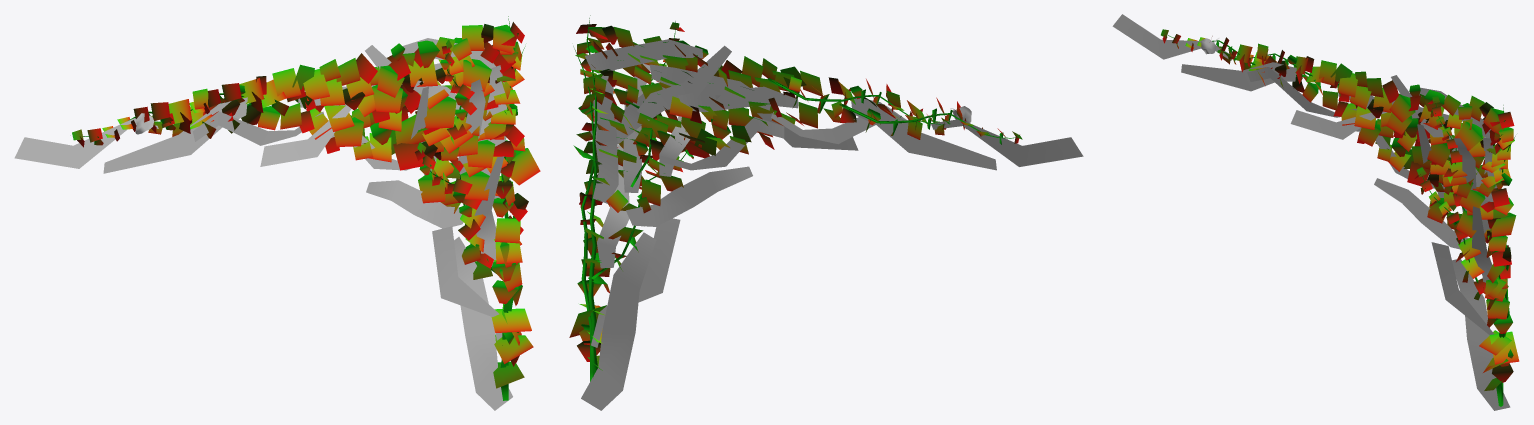
The model's file is Var1_LOD3.fbx.
The picture shows the model from 3 angles, left to right: view 1: azimuth 30°, elevation 25°; view 2: azimuth 150°, elevation 25°; view 3: azimuth 330°, elevation 25°; orthographic projection. The views are drawn at different scales.
Visible parts, largest first — view 1: _669d_Var1_LOD3; view 2: _669d_Var1_LOD3; view 3: _669d_Var1_LOD3.
Part boxes in pixels (x1,y1,x2,y2): _669d_Var1_LOD3: (14, 16, 540, 410); _669d_Var1_LOD3: (569, 15, 1083, 410); _669d_Var1_LOD3: (1112, 14, 1519, 410).
Bounding box in the file's own units: 127 × 93.47 × 12.98.
